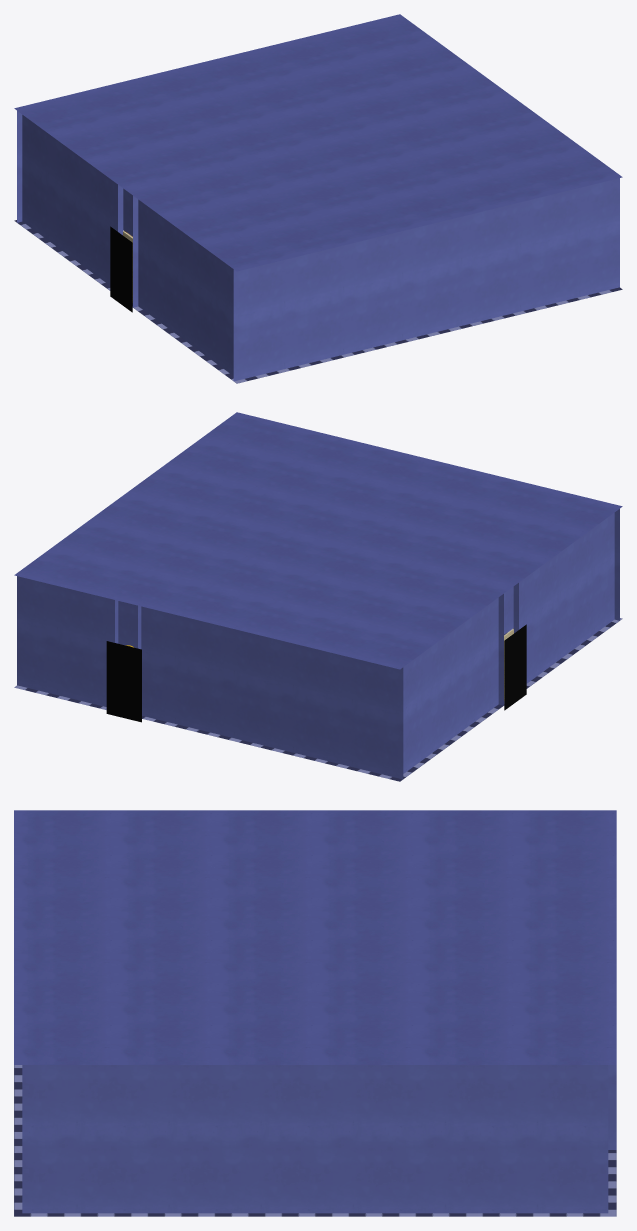
Rendered from rdwe_anamorphic_room.glb.
3 views of the same model, one above another, from view 1: azimuth 30°, elevation 25°; view 2: azimuth 150°, elevation 25°; view 3: azimuth 270°, elevation 25° (orthographic). The views are drawn at different scales.
Parts seen in each view (by area): view 1: Ceil_Indigo, Wall_Indigo, Floor_Indigo, Void; view 2: Ceil_Indigo, Wall_Indigo, Void, Floor_Indigo; view 3: Ceil_Indigo, Wall_Indigo, Floor_Indigo.
Boxes of the visible parts, x1,y1,x2,y2 form: Ceil_Indigo: [14, 14, 622, 271]; Wall_Indigo: [17, 111, 619, 381]; Floor_Indigo: [14, 220, 622, 383]; Void: [110, 226, 132, 312]; Ceil_Indigo: [14, 412, 622, 669]; Wall_Indigo: [17, 509, 619, 779]; Void: [106, 624, 526, 722]; Floor_Indigo: [14, 618, 622, 781]; Ceil_Indigo: [14, 810, 616, 1064]; Wall_Indigo: [22, 1065, 616, 1213]; Floor_Indigo: [14, 1065, 616, 1216].
Bounding box in the file's own units: 14.55 × 4.05 × 14.55.
17 materials, 12 textured.
